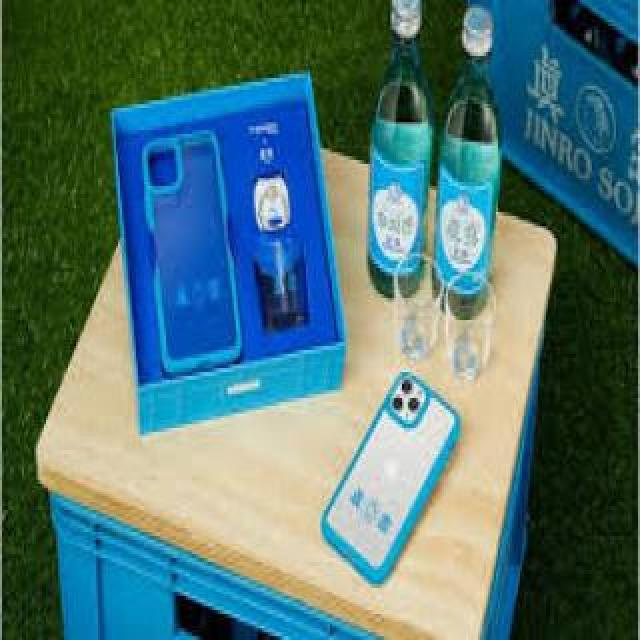smart phone: (343, 357, 470, 585)
